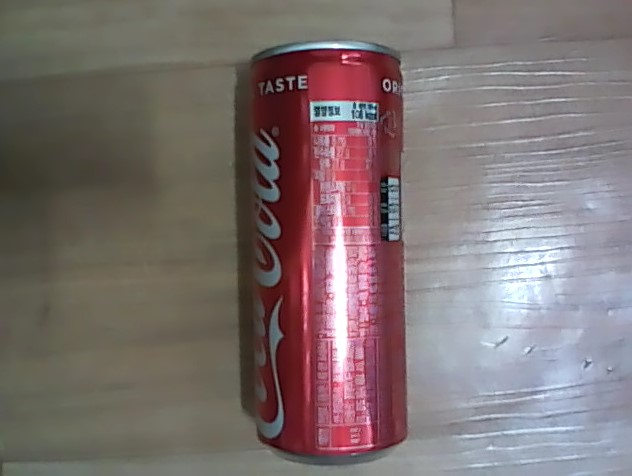Can: (240, 35, 416, 457)
